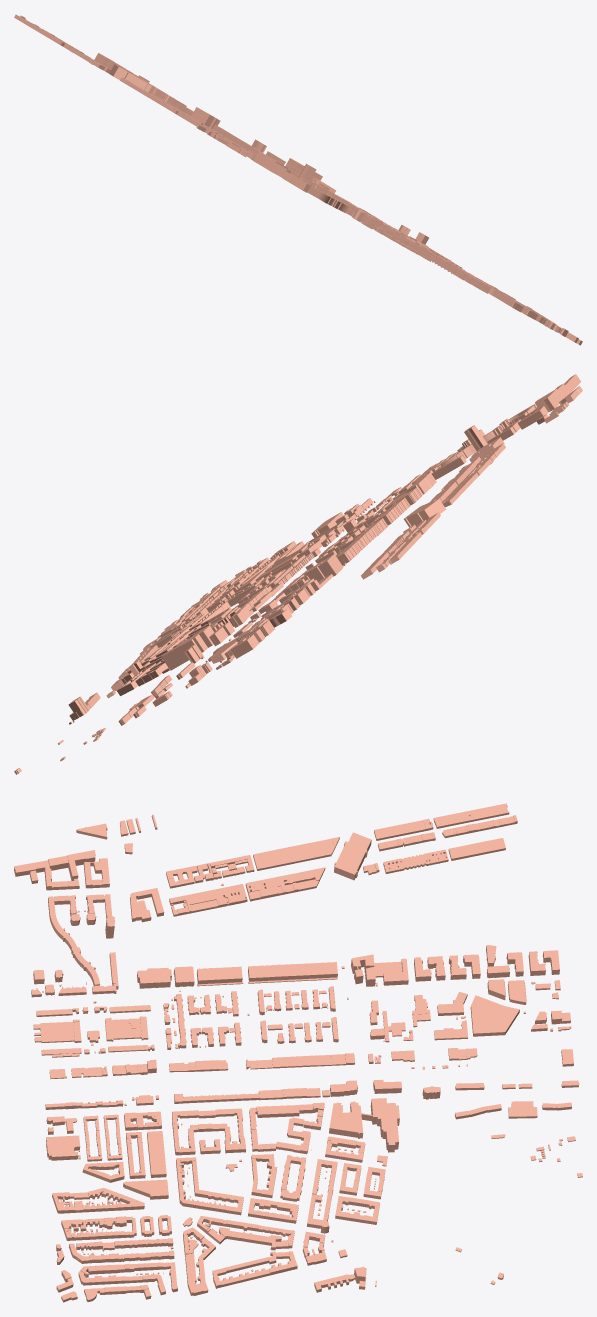
3 renders of one model, top to bottom at view 1: azimuth 30°, elevation 25°; view 2: azimuth 150°, elevation 25°; view 3: azimuth 270°, elevation 25°, orthographic. The views are drawn at different scales.
Size of the model in its own units: 1064 by 757 by 1284.
